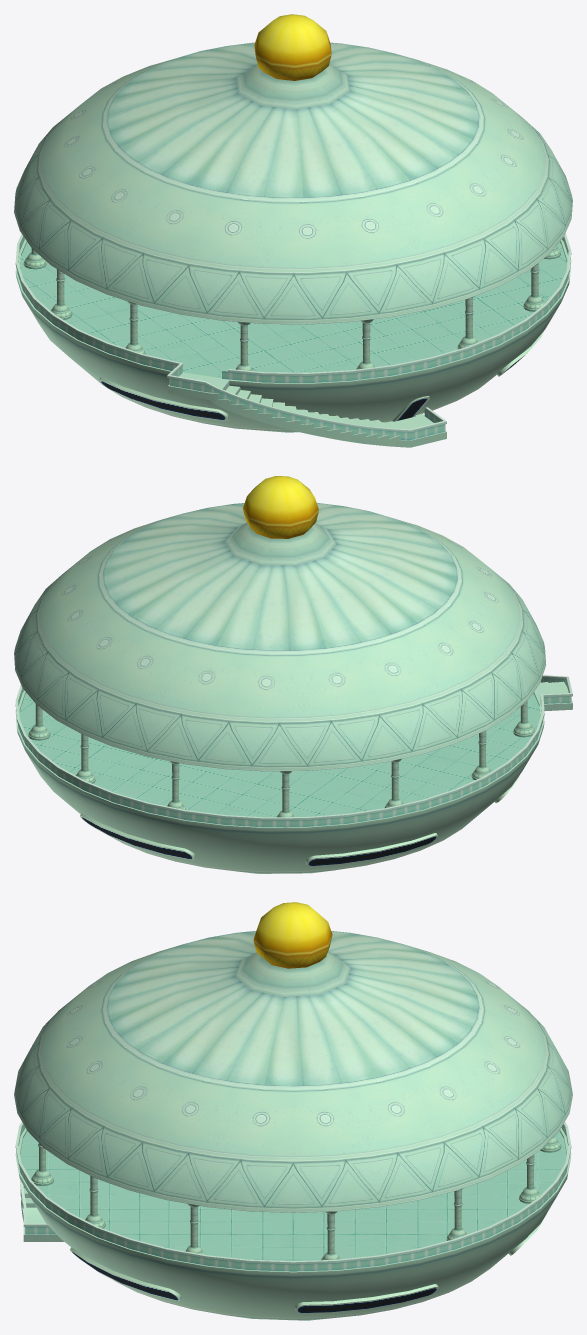
File: kalinta_jianzhu.FBX
3 views of the same model, one above another, from view 1: azimuth 30°, elevation 25°; view 2: azimuth 150°, elevation 25°; view 3: azimuth 270°, elevation 25° (orthographic). The views are drawn at different scales.
Visible parts, largest first — view 1: kalinta_jianzhu_2, kalinta_jianzhu_1, kalinta_jianzhu_5, kalinta_jianzhu_3, kalinta_jianzhu_4; view 2: kalinta_jianzhu_2, kalinta_jianzhu_1, kalinta_jianzhu_3, kalinta_jianzhu_5, kalinta_jianzhu_4; view 3: kalinta_jianzhu_2, kalinta_jianzhu_1, kalinta_jianzhu_3, kalinta_jianzhu_5, kalinta_jianzhu_4.
Boxes of the visible parts, bbox=[...] form: kalinta_jianzhu_2: bbox=[14, 54, 572, 324]; kalinta_jianzhu_1: bbox=[23, 14, 560, 447]; kalinta_jianzhu_5: bbox=[20, 242, 566, 378]; kalinta_jianzhu_3: bbox=[15, 233, 571, 440]; kalinta_jianzhu_4: bbox=[17, 237, 568, 440]; kalinta_jianzhu_2: bbox=[14, 514, 545, 771]; kalinta_jianzhu_1: bbox=[28, 476, 572, 817]; kalinta_jianzhu_3: bbox=[15, 675, 572, 873]; kalinta_jianzhu_5: bbox=[19, 693, 540, 817]; kalinta_jianzhu_4: bbox=[18, 678, 571, 827]; kalinta_jianzhu_2: bbox=[14, 945, 572, 1212]; kalinta_jianzhu_1: bbox=[20, 902, 561, 1260]; kalinta_jianzhu_3: bbox=[15, 1121, 571, 1320]; kalinta_jianzhu_5: bbox=[20, 1131, 566, 1260]; kalinta_jianzhu_4: bbox=[18, 1125, 568, 1271].
Bounding box in the file's own units: 8789 × 6621 × 8789.
